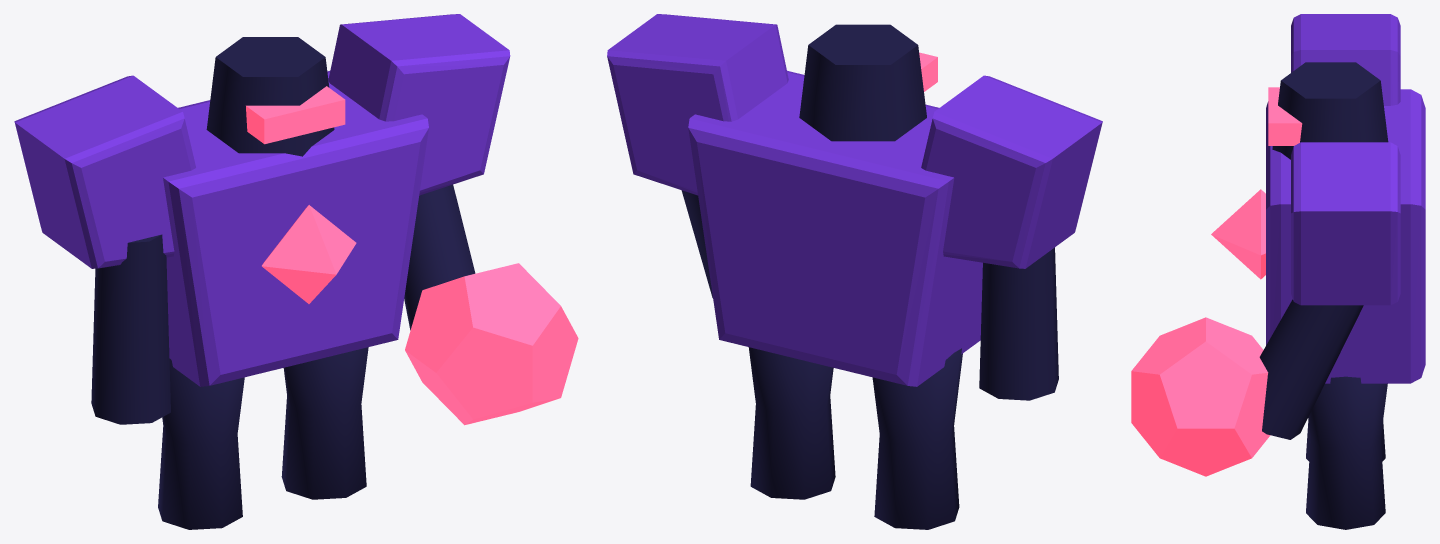
File: enemy_brute.glb
3 views of the same model, side by side, from view 1: azimuth 30°, elevation 25°; view 2: azimuth 150°, elevation 25°; view 3: azimuth 270°, elevation 25° (orthographic). The views are drawn at different scales.
Parts seen in each view (by area): view 1: BruteTorso, BrutePauldronL, BrutePauldronR, BruteMace, BruteArmL, BruteLegL, BruteLegR, BruteHelm, BruteArmR, BruteCore, BruteVisor; view 2: BruteTorso, BrutePauldronL, BrutePauldronR, BruteHelm, BruteLegL, BruteLegR, BruteArmL, BruteArmR; view 3: BrutePauldronR, BruteMace, BruteTorso, BruteLegR, BruteArmR, BruteHelm, BrutePauldronL, BruteCore, BruteVisor.
Boxes of the visible parts, left/top/right/bottom form: BruteTorso: left=163, top=71, right=428, bottom=386; BrutePauldronL: left=14, top=75, right=195, bottom=268; BrutePauldronR: left=328, top=14, right=510, bottom=195; BruteMace: left=405, top=263, right=578, bottom=425; BruteArmL: left=91, top=234, right=170, bottom=424; BruteLegL: left=158, top=358, right=244, bottom=529; BruteLegR: left=281, top=347, right=368, bottom=499; BruteHelm: left=206, top=37, right=334, bottom=156; BruteArmR: left=404, top=184, right=475, bottom=330; BruteCore: left=262, top=205, right=356, bottom=303; BruteVisor: left=246, top=86, right=345, bottom=144; BruteTorso: left=688, top=70, right=982, bottom=386; BrutePauldronL: left=921, top=75, right=1102, bottom=268; BrutePauldronR: left=607, top=14, right=788, bottom=195; BruteHelm: left=799, top=24, right=926, bottom=141; BruteLegL: left=872, top=348, right=962, bottom=529; BruteLegR: left=748, top=347, right=835, bottom=499; BruteArmL: left=979, top=247, right=1058, bottom=400; BruteArmR: left=681, top=190, right=712, bottom=297; BrutePauldronR: left=1291, top=142, right=1400, bottom=305; BruteMace: left=1131, top=317, right=1270, bottom=476; BruteTorso: left=1266, top=89, right=1425, bottom=383; BruteLegR: left=1306, top=376, right=1387, bottom=529; BruteArmR: left=1259, top=299, right=1363, bottom=439; BruteHelm: left=1272, top=62, right=1388, bottom=159; BrutePauldronL: left=1291, top=14, right=1400, bottom=105; BruteCore: left=1211, top=189, right=1265, bottom=279; BruteVisor: left=1268, top=87, right=1302, bottom=145.
Bounding box in the file's own units: 1.87 × 1.84 × 1.18.
